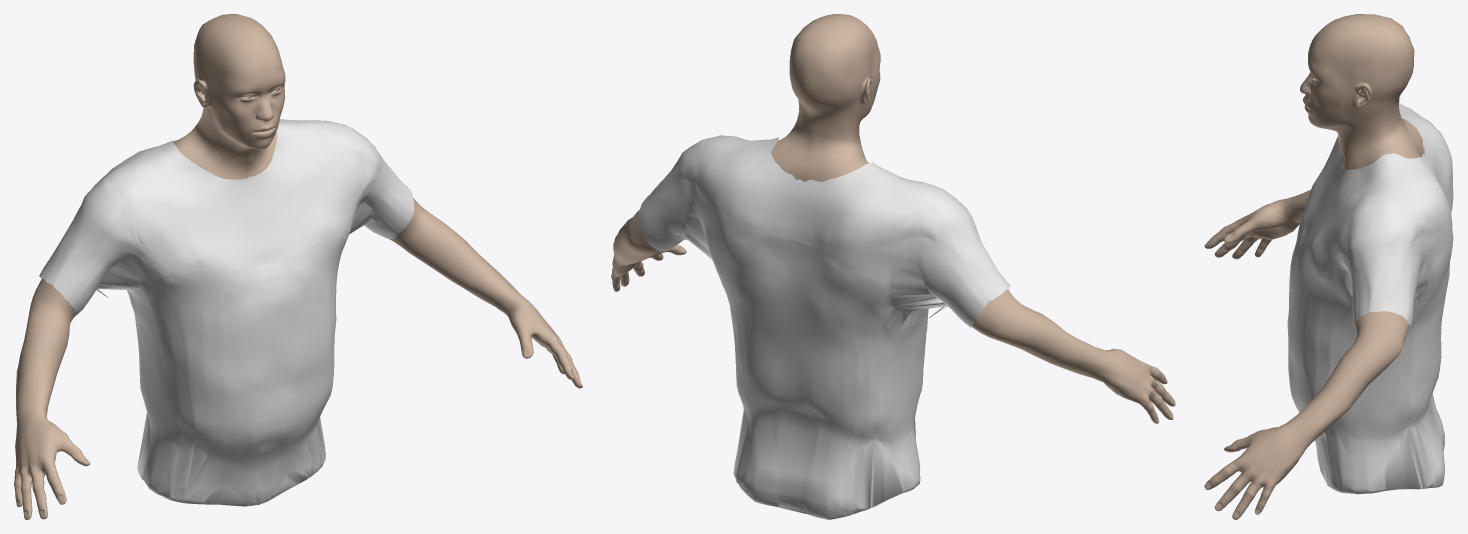
3 renders of one model, left to right at view 1: azimuth 30°, elevation 25°; view 2: azimuth 150°, elevation 25°; view 3: azimuth 270°, elevation 25°, orthographic. The views are drawn at different scales.
Parts seen in each view (by area): view 1: Cube, Base; view 2: Cube, Base; view 3: Cube, Base.
Boxes of the visible parts, box(x1,y1,x2,y2) form: Cube: box(39, 119, 414, 506); Base: box(14, 14, 582, 519); Cube: box(638, 135, 1010, 519); Base: box(611, 14, 1175, 423); Cube: box(1287, 103, 1453, 494); Base: box(1204, 14, 1425, 519).
Bounding box in the file's own units: 10.47 × 8.43 × 4.2.
